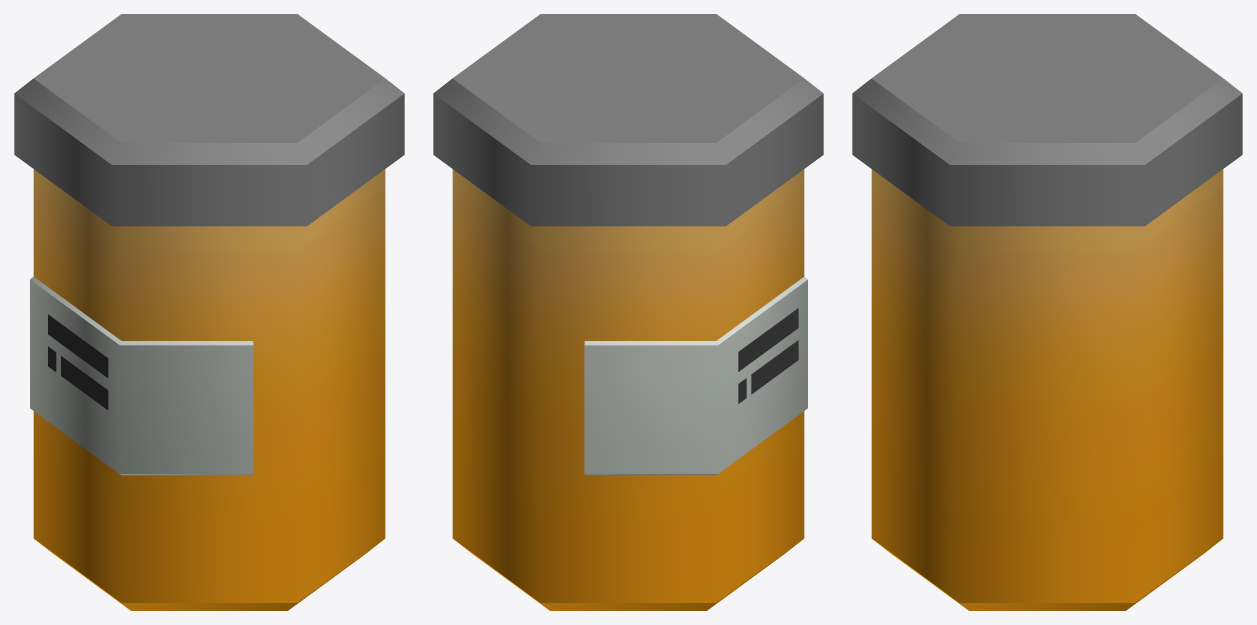
File: Jar_3_G.fbx
3 views of the same model, side by side, from view 1: azimuth 30°, elevation 25°; view 2: azimuth 150°, elevation 25°; view 3: azimuth 270°, elevation 25° (orthographic).
Parts seen in each view (by area): view 1: Jar_3_G; view 2: Jar_3_G; view 3: Jar_3_G.
Part boxes in pixels (box(x1,y1,x2,y2)): Jar_3_G: box(14, 14, 404, 610); Jar_3_G: box(433, 14, 823, 610); Jar_3_G: box(852, 14, 1242, 610).
Size of the model in its own units: 17.99 by 27.9 by 20.77.
